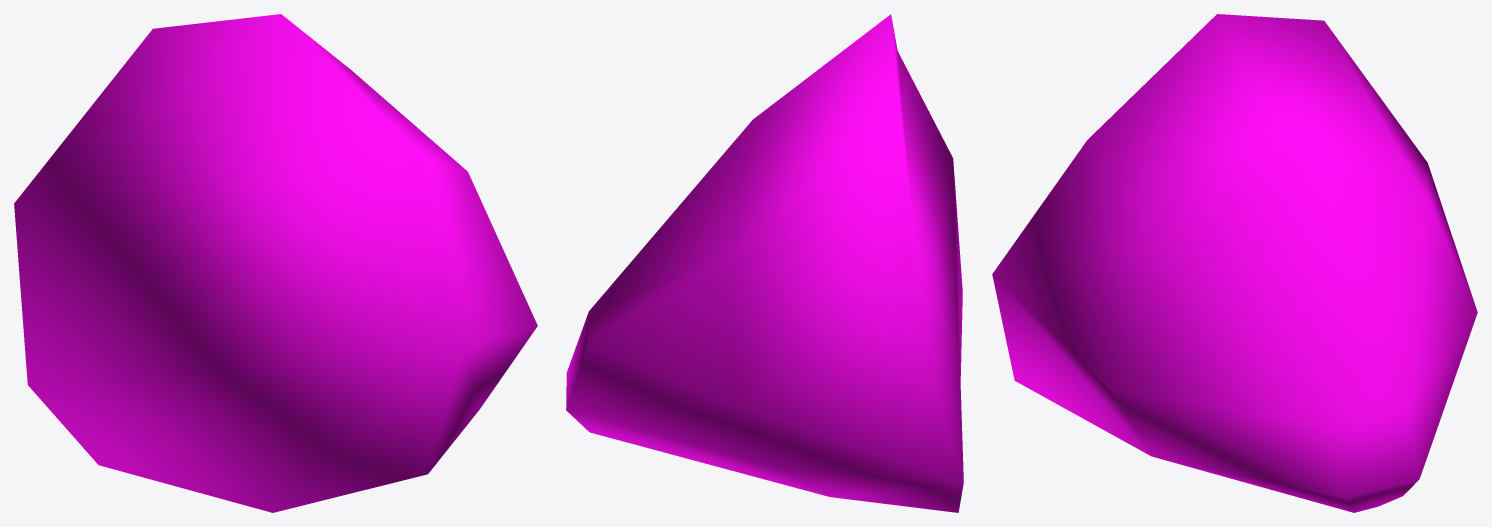
The model's file is ham_meshCollider.fbx.
The picture shows the model from 3 angles, left to right: view 1: azimuth 30°, elevation 25°; view 2: azimuth 150°, elevation 25°; view 3: azimuth 270°, elevation 25°; orthographic projection. The views are drawn at different scales.
Parts seen in each view (by area): view 1: foods_ham_meshCollider; view 2: foods_ham_meshCollider; view 3: foods_ham_meshCollider.
Boxes of the visible parts, x1,y1,x2,y2 form: foods_ham_meshCollider: (14,14,537,512); foods_ham_meshCollider: (566,14,963,512); foods_ham_meshCollider: (992,14,1477,512).
Bounding box in the file's own units: 17.22 × 18 × 18.11.
